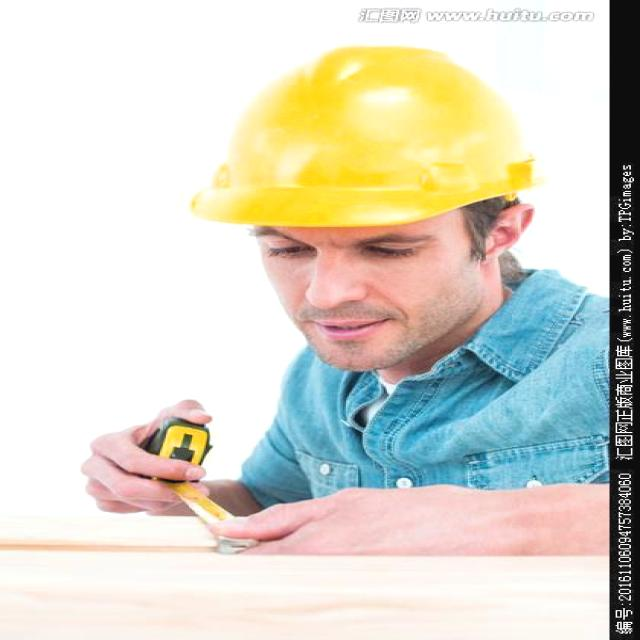face_nomask: (247, 217, 516, 369)
hand_noglove: (226, 476, 528, 574), (59, 394, 222, 520)
head_helmet: (188, 46, 550, 226)
person: (210, 44, 596, 554)
